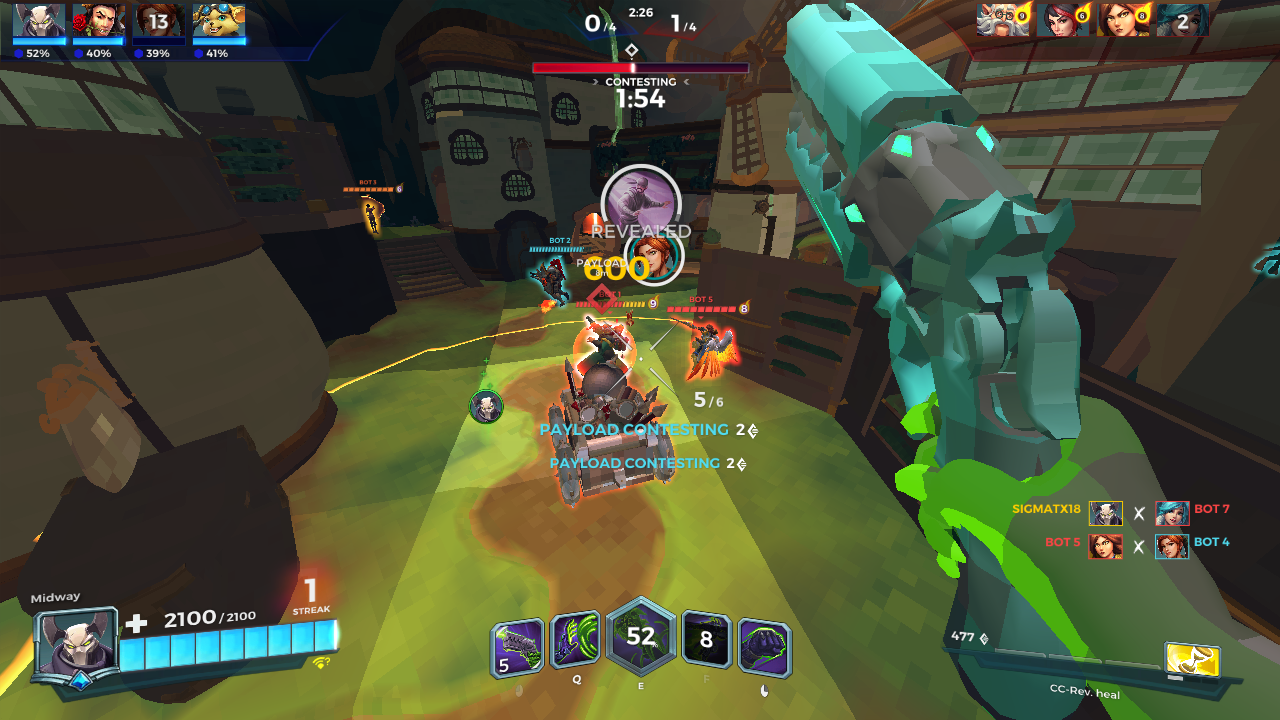model: (676, 315, 736, 380), (576, 319, 631, 388), (359, 196, 385, 237)
